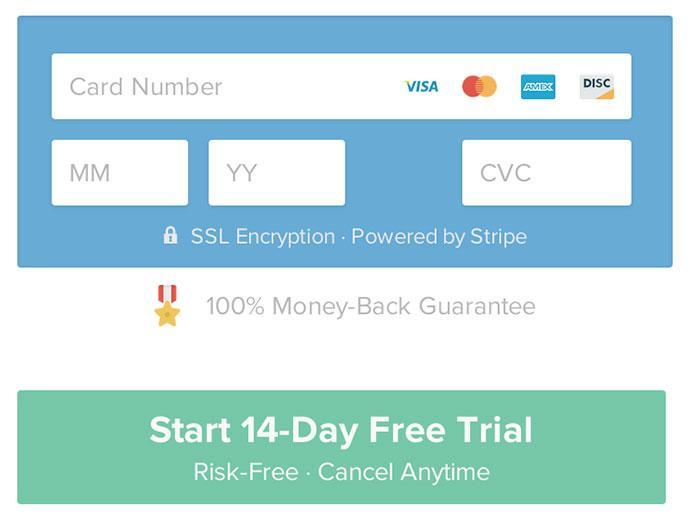button: (16, 389, 668, 507)
icon: (162, 223, 183, 248)
input: (51, 53, 633, 120), (463, 139, 634, 206), (209, 139, 347, 208), (53, 141, 188, 206)
